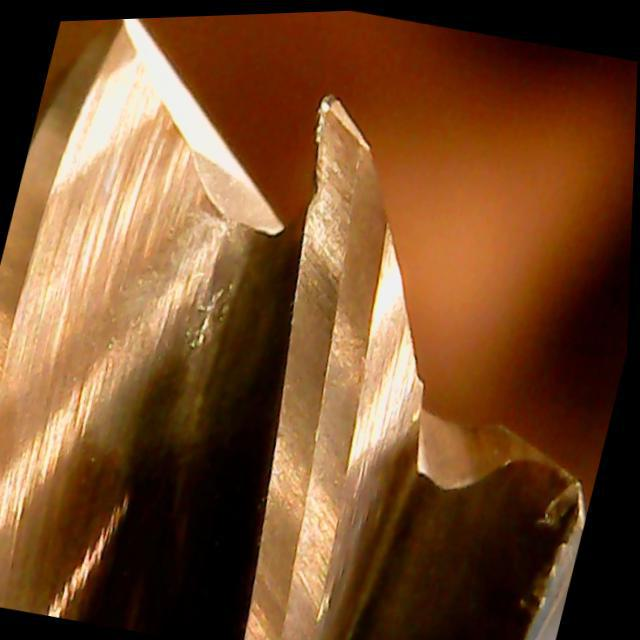Tool-wear-class-1: (251, 84, 437, 386)
